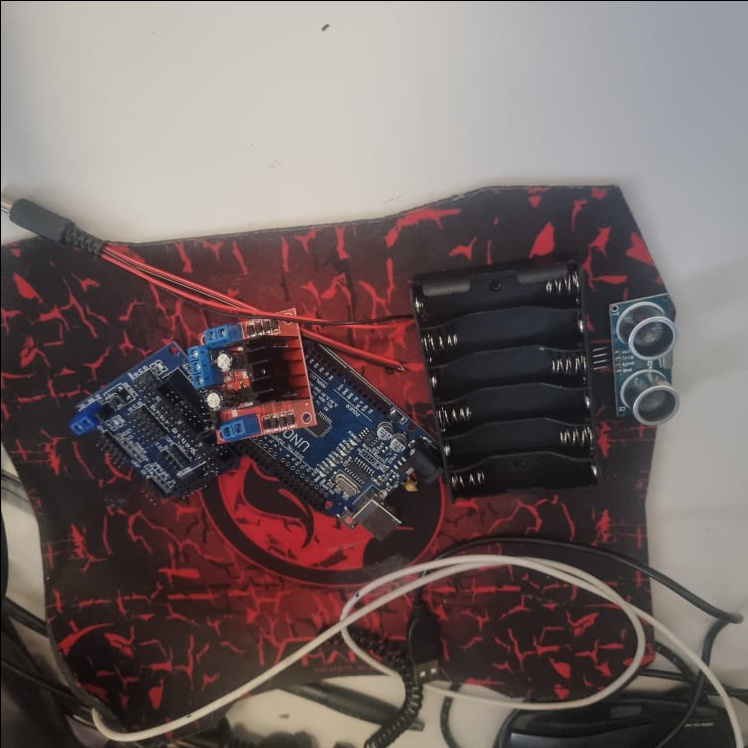5V EXPANSION: (70, 340, 236, 515)
BATTERY BOX: (410, 255, 605, 501)
MOTOR: (185, 307, 309, 443)
SENSOR: (609, 287, 683, 425)
UNO R3: (265, 348, 444, 543)
